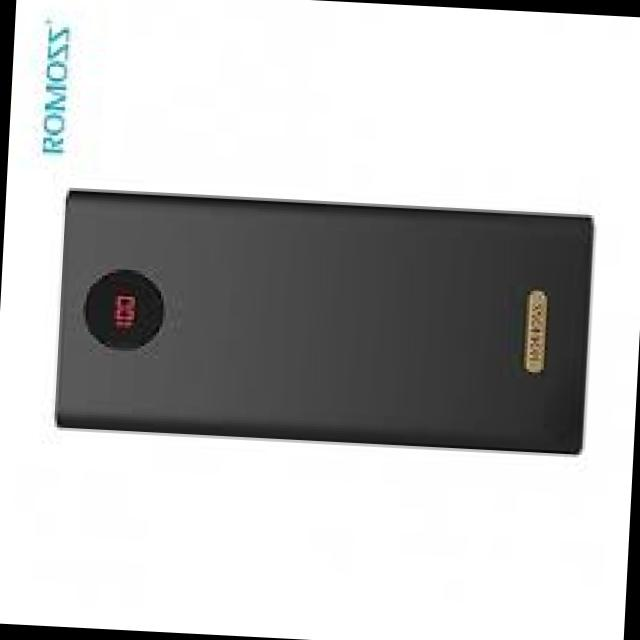power_bank: (55, 185, 598, 454)
